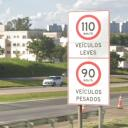speed_limit_110: (75, 14, 102, 41)
